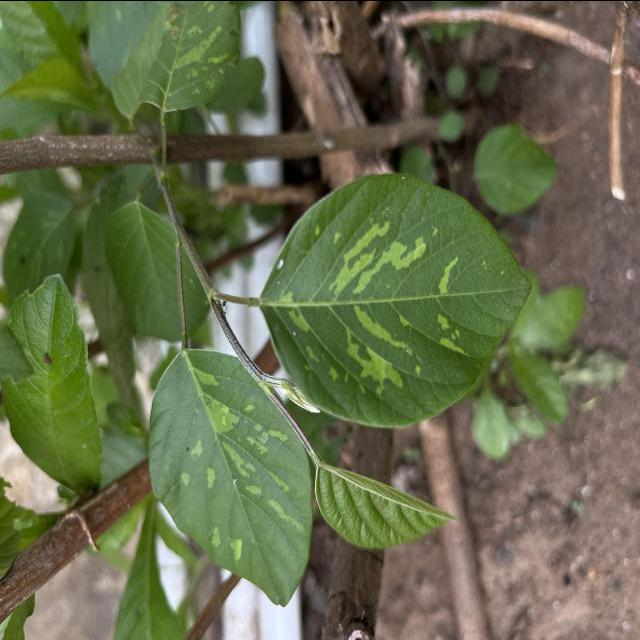Desmodium gangeticum: (146, 343, 317, 612)
